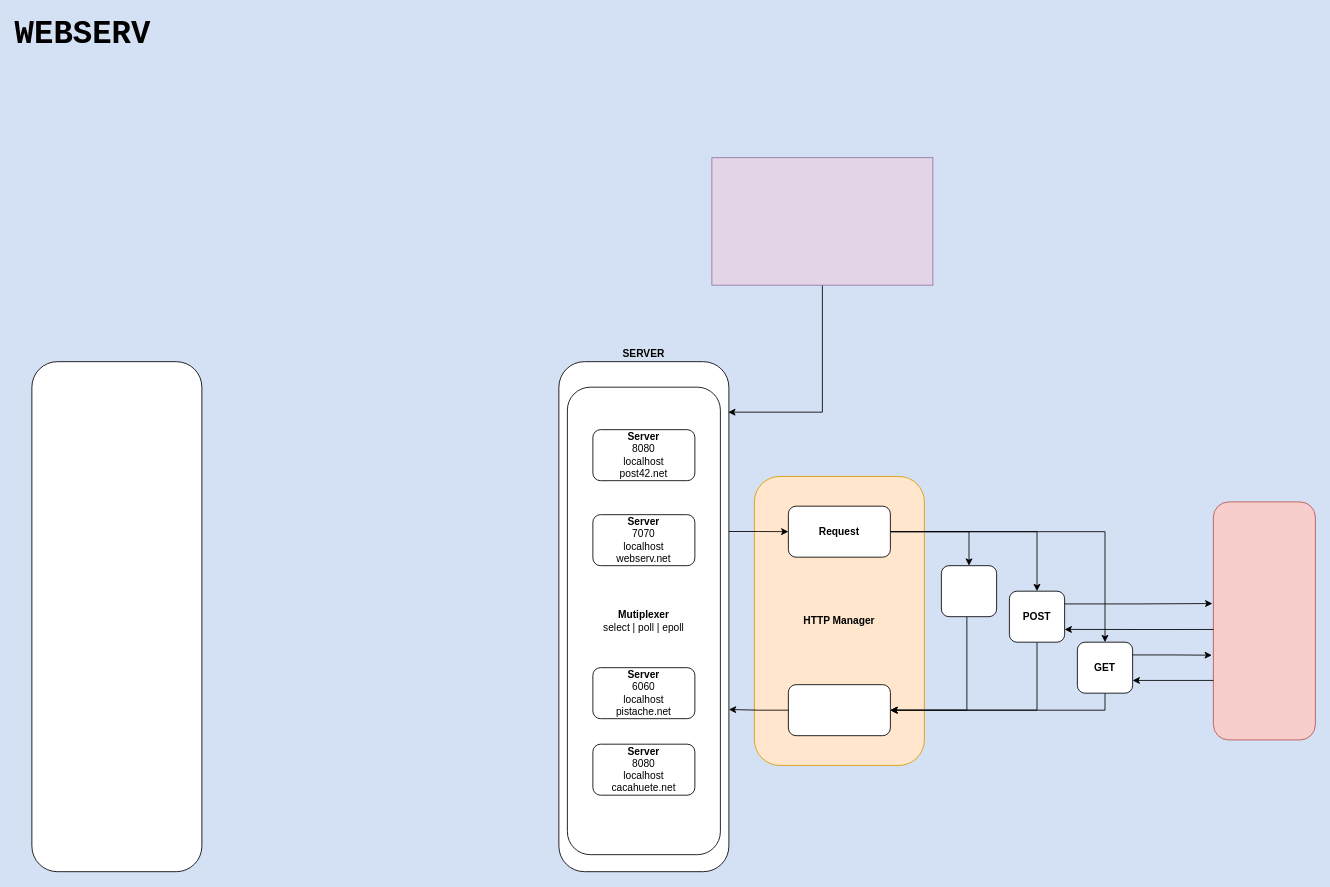
Some shapes in this 1330 by 887 pixel diagram are drawn without their labels. The shapes that lost their labels are listed below. From the top down, each one's centre as x and y in pixels, then its label:
At (822,221): "Config".
At (969,591): "DELETE".
At (116,616): "CLIENT".
At (1264,620): "CGI".
At (839,710): "Response".
